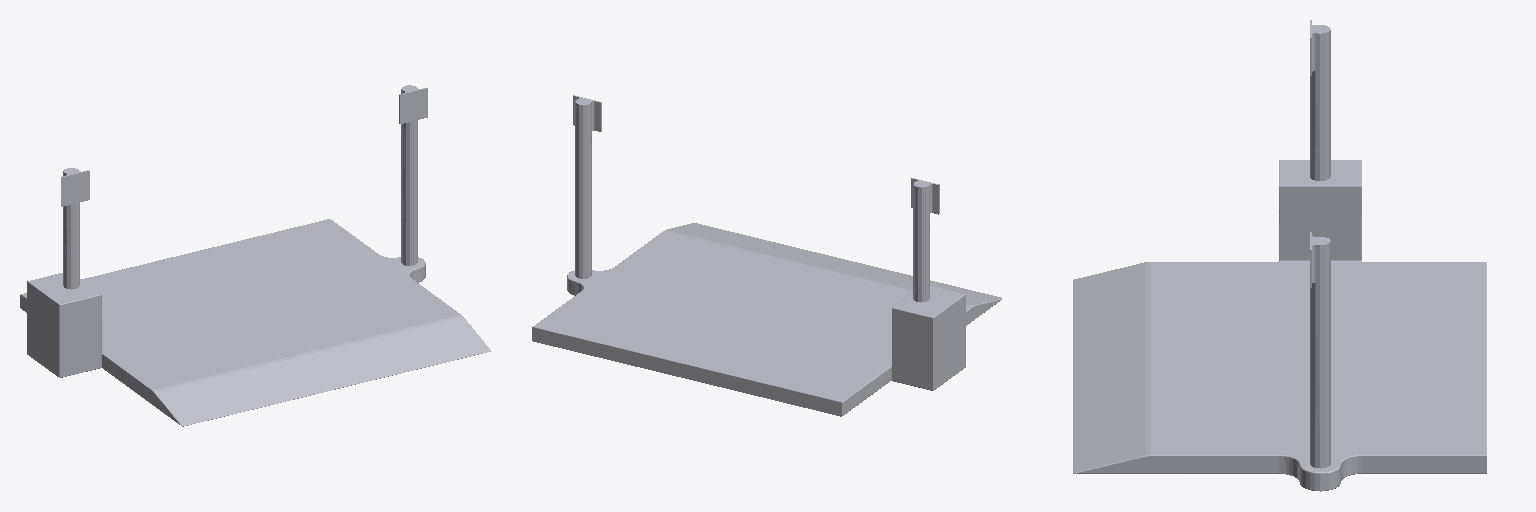
The robot description file, URDF, robot "dock_new":
<?xml version="1.0" encoding="utf-8"?>
<!-- This URDF was automatically created by SolidWorks to URDF Exporter! Originally created by [author] ([email redacted])
     Commit Version: 1.5.1-0-g916b5db  Build Version: 1.5.7152.31018
     For more information, please see http://wiki.ros.org/sw_urdf_exporter -->
<robot
  name="dock_new">
  <link
    name="dock_new">
    <inertial>
      <origin
        xyz="10 10.10843 0.098619"
        rpy="0 0 0" />
      <mass
        value="3778.9" />
      <inertia
        ixx="999.34"
        ixy="47.546"
        ixz="85.759"
        iyy="2269.6"
        iyz="21.9780000000001"
        izz="3058.2" />
    </inertial>
    <visual>
      <origin
        xyz="10 10.10843 0.098619"
        rpy="1.5707963267949 0 0" />
      <geometry>
        <mesh
          filename="package://dock_new/meshes/dock_new.STL" />
      </geometry>
      <material
        name="">
        <color
          rgba="0.77647 0.77647 0.81961 1" />
        <texture
          filename="package://dock_new/textures/" />
      </material>
    </visual>
    <collision>
      <origin
        xyz="10 10.10843 0.098619"
        rpy="1.5707963267949 0 0" />
      <geometry>
        <mesh
          filename="package://dock_new/meshes/dock_new.STL" />
      </geometry>
    </collision>
  </link>
  <static>1</static>
</robot>

--- Render facts (derived) ---
3 views of the same robot in one strip: view 1: azimuth 30°, elevation 25°; view 2: azimuth 150°, elevation 25°; view 3: azimuth 270°, elevation 25° (orthographic).
Model dock_new with 1 links and 0 joints (none), rooted at dock_new, posed every joint at zero.
Links seen in each view (by area): view 1: dock_new; view 2: dock_new; view 3: dock_new.
Boxes of the visible links, left/top/right/bottom form: dock_new: left=20, top=85, right=490, bottom=426; dock_new: left=532, top=95, right=1002, bottom=416; dock_new: left=1073, top=20, right=1486, bottom=491.
Size in the robot's own frame: 2.7 by 1.99 by 1.28 metres.
1 mesh visuals loaded from 1 distinct referenced files (1 binary STL).